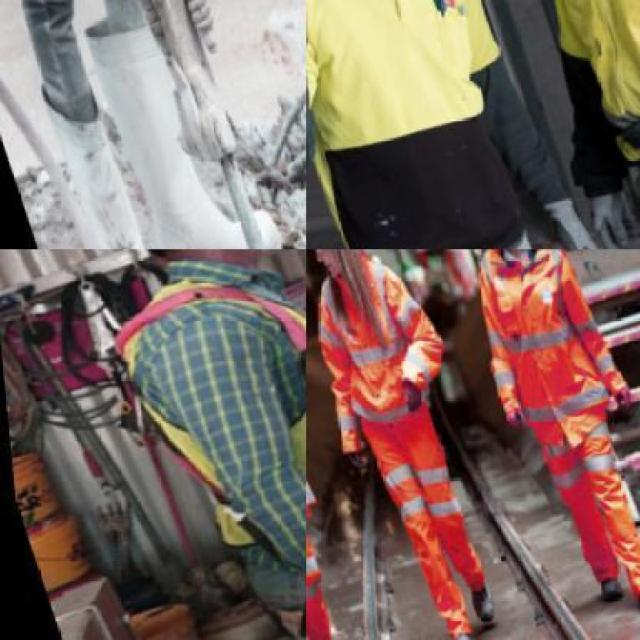Vest: (76, 249, 304, 586), (438, 250, 638, 472), (306, 249, 476, 485)
